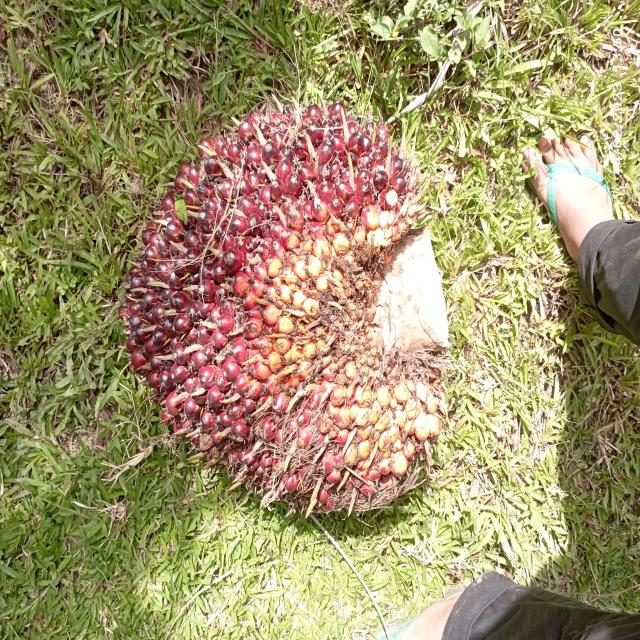fraksi 1: (98, 87, 478, 560)
